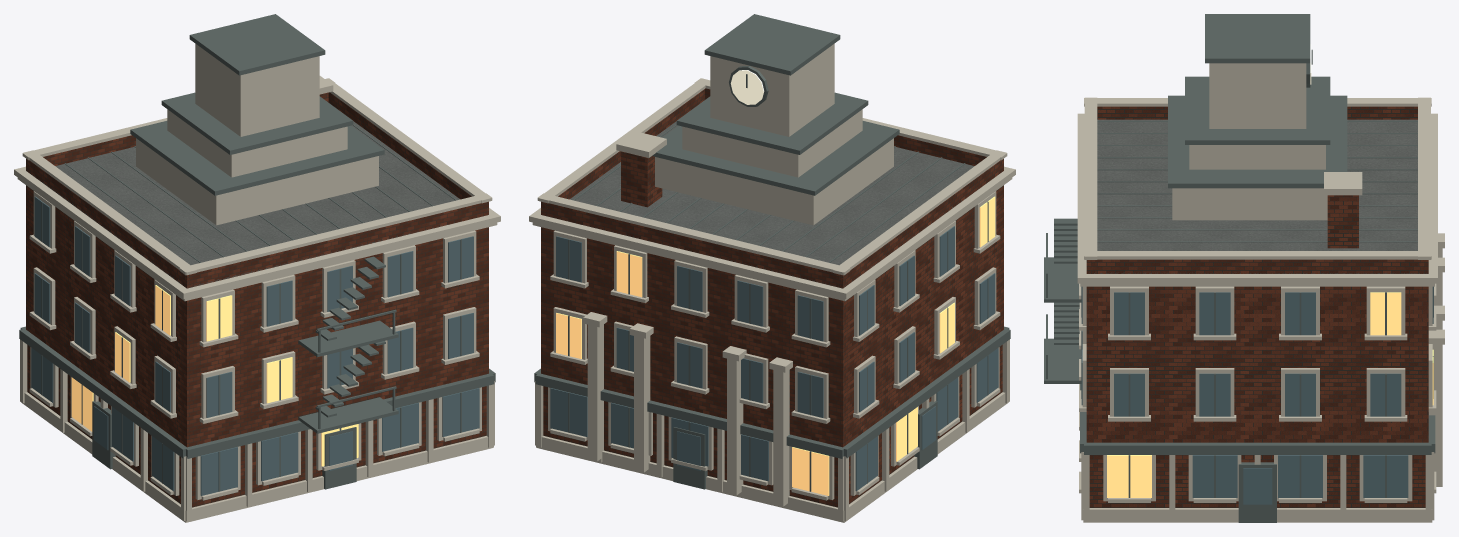
The model's file is civic.glb.
3 views of the same model, side by side, from view 1: azimuth 30°, elevation 25°; view 2: azimuth 150°, elevation 25°; view 3: azimuth 270°, elevation 25° (orthographic). The views are drawn at different scales.
Parts seen in each view (by area): view 1: foundation, masonry, roof tar seam, window pane, roof, window pane.002; view 2: foundation, masonry, roof tar seam, window pane, roof, window pane.002, clock face; view 3: masonry, foundation, roof tar seam, roof, window pane, window pane.002.
Boxes of the visible parts, x1,y1,x2,y2 form: foundation: (14,43,500,522); masonry: (26,92,488,507); roof tar seam: (19,14,495,491); window pane: (31,196,479,495); roof: (26,121,488,287); window pane.002: (71,285,358,466); foundation: (529,43,1015,522); masonry: (541,88,1003,507); roof tar seam: (534,14,1010,491); window pane: (550,226,998,491); roof: (547,121,987,288); window pane.002: (556,196,995,495); clock face: (730,70,764,104); masonry: (1086,106,1428,507); foundation: (1077,63,1444,522); roof tar seam: (1044,14,1435,522); roof: (1088,119,1427,273); window pane: (1081,286,1433,504); window pane.002: (1107,292,1433,497).
Size of the model in its own units: 13.65 by 15.74 by 14.07.
7 materials, 2 textured.
